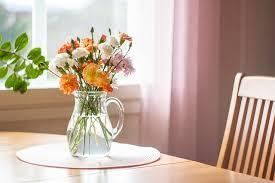chair: (214, 73, 275, 180)
flower: (51, 27, 135, 94)
vase: (68, 93, 124, 156)
